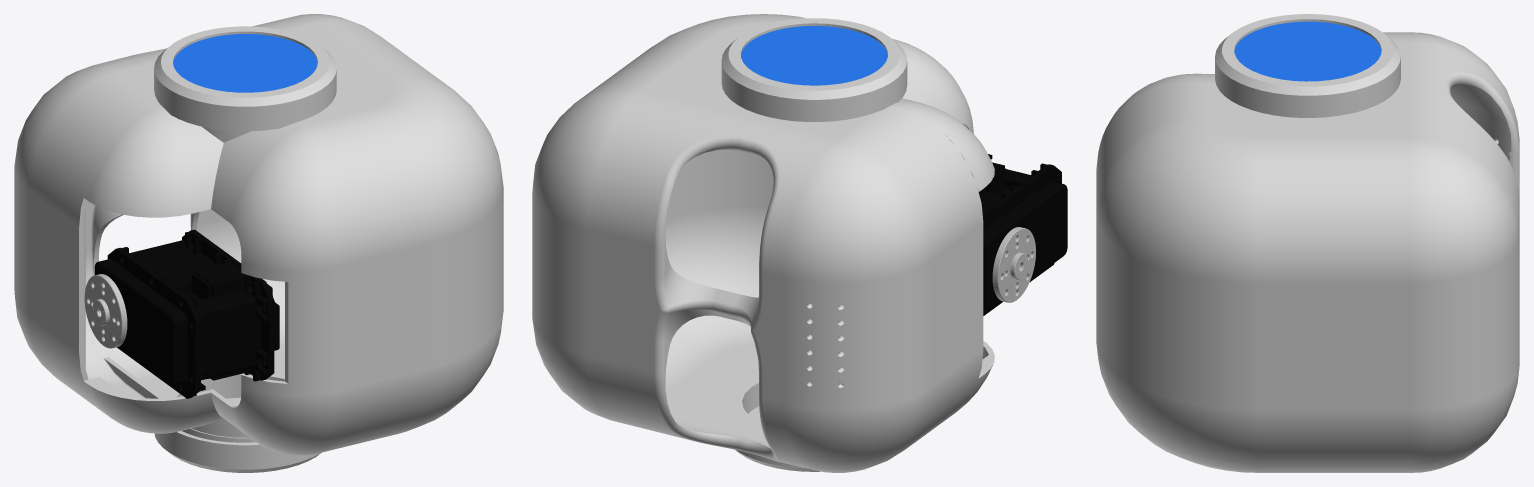
File: Head2.glb
3 renders of one model, left to right at view 1: azimuth 30°, elevation 25°; view 2: azimuth 150°, elevation 25°; view 3: azimuth 270°, elevation 25°, orthographic.
Size of the model in its own units: 0.1668 by 0.154 by 0.155.
